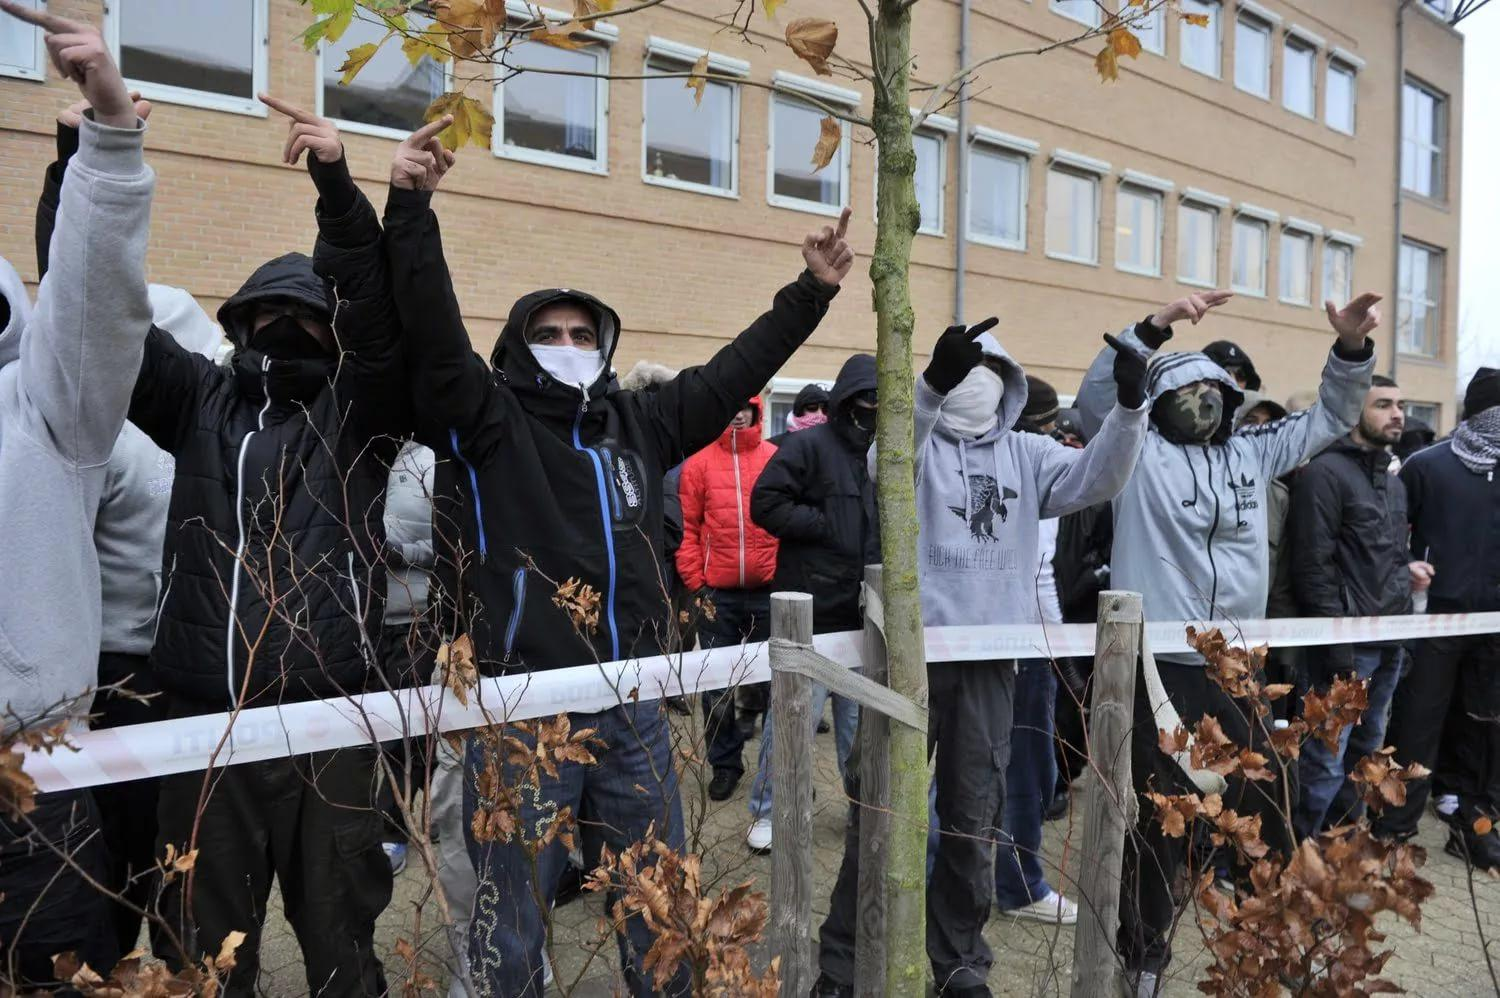mask: (518, 301, 606, 391), (1366, 757, 1399, 793), (1195, 728, 1219, 759)
none: (1363, 381, 1413, 444)
